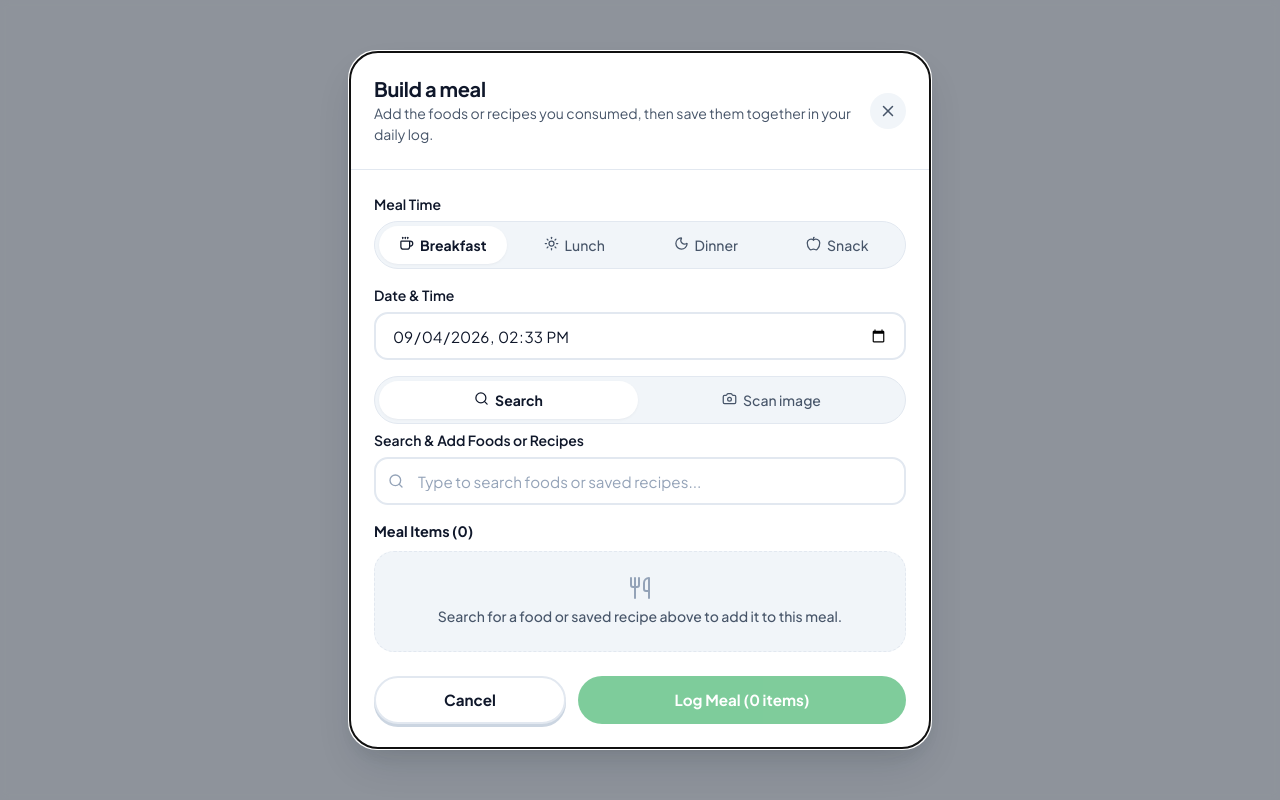
Test: MealLogModal recipe logging › keeps catalog foods and saved recipes in the same search result set
Step 1. Type "green beans" into the field with placeholder "Type to search foods or saved recipes..." → (640,481), box [374,457,906,505]
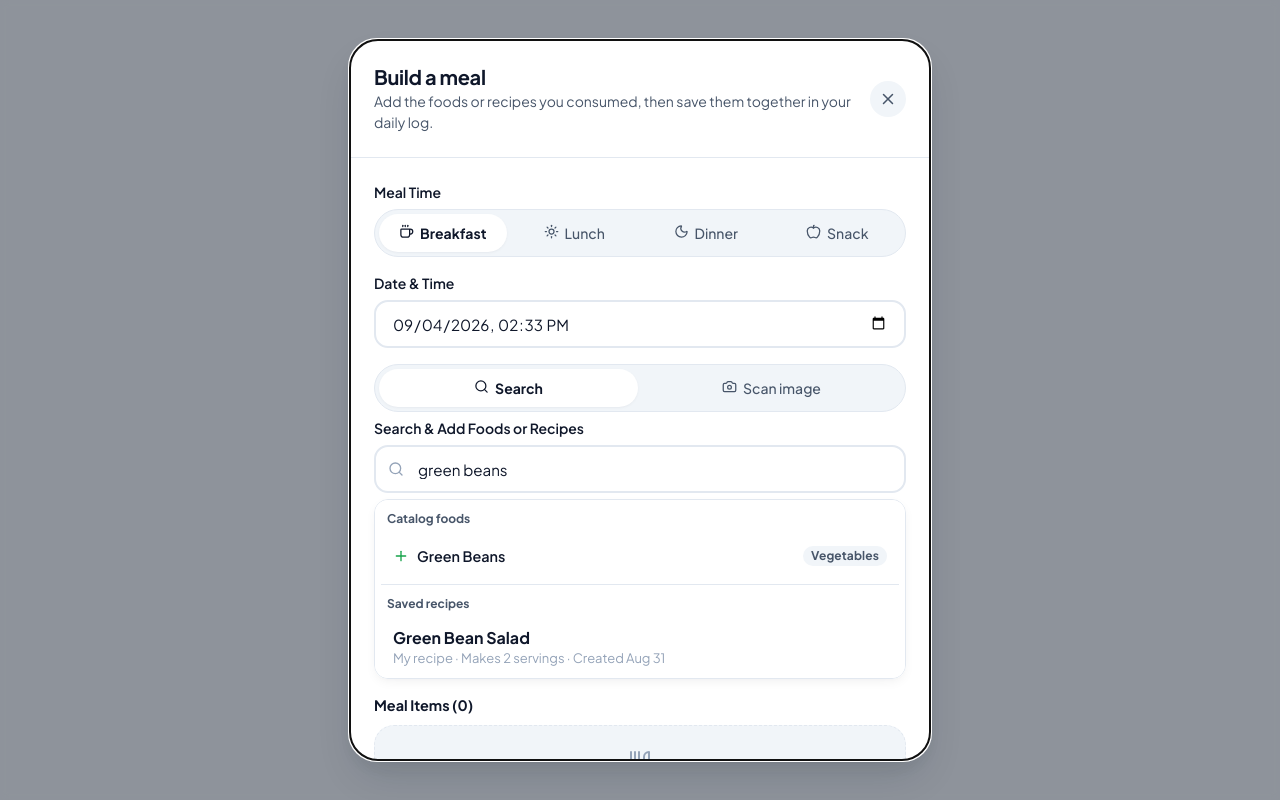
expect the button "Green Beans Vegetables" is shown: met, box [381,536,899,576]
expect the button that starts with "Green Bean Salad" is shown: met, box [381,617,899,676]
